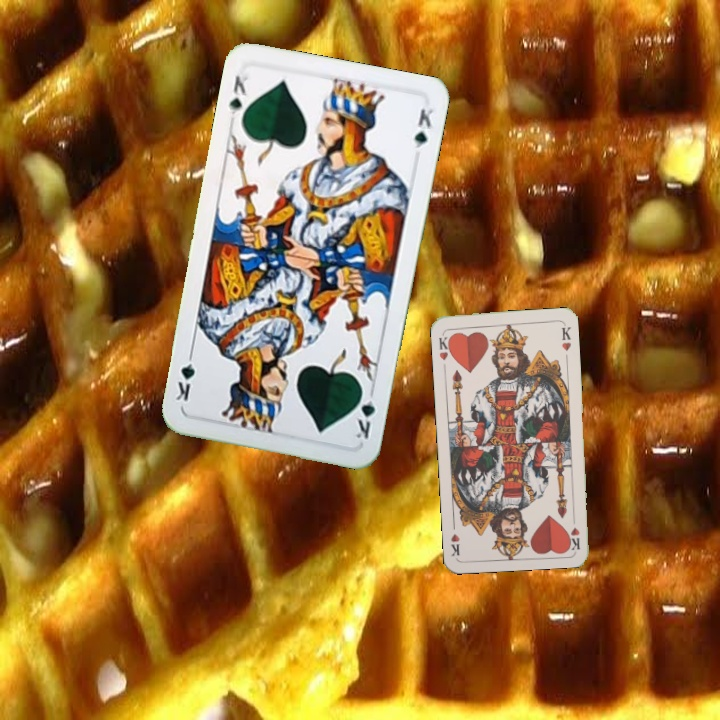GK: (352, 384, 378, 444), (225, 69, 252, 117)
HK: (566, 510, 583, 551), (435, 329, 455, 363)
